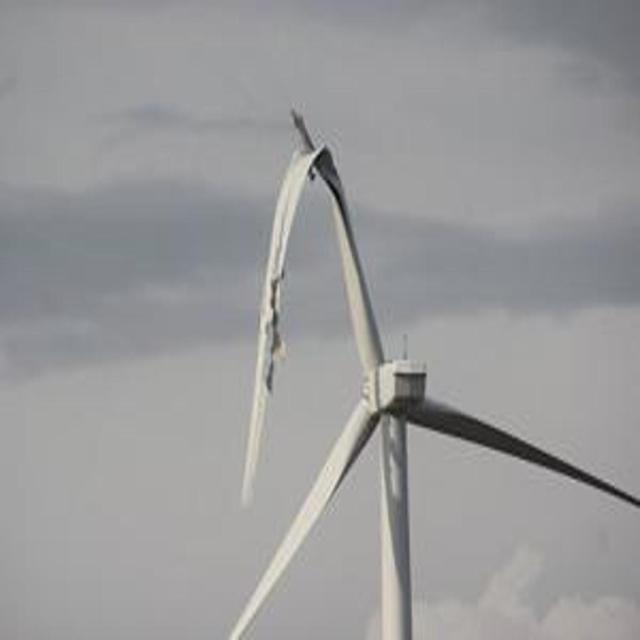crack: (237, 110, 386, 506)
